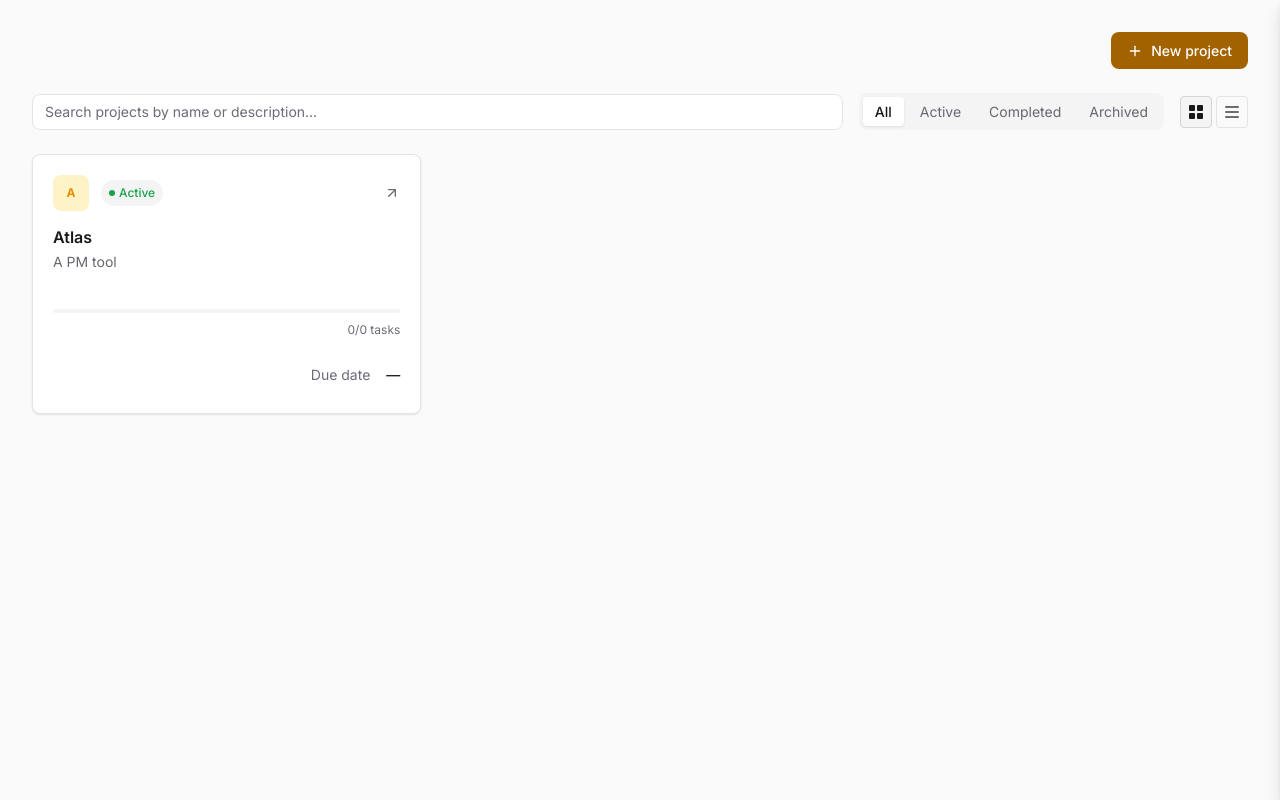
Test: ProjectList search, filter, and view toggle › should switch to the table view on the list-view toggle
This screenshot has width=1280, height=800.
Step 1. Click the button named "List view" → coordinates (1232, 112), box left=1216, top=96, right=1248, bottom=128
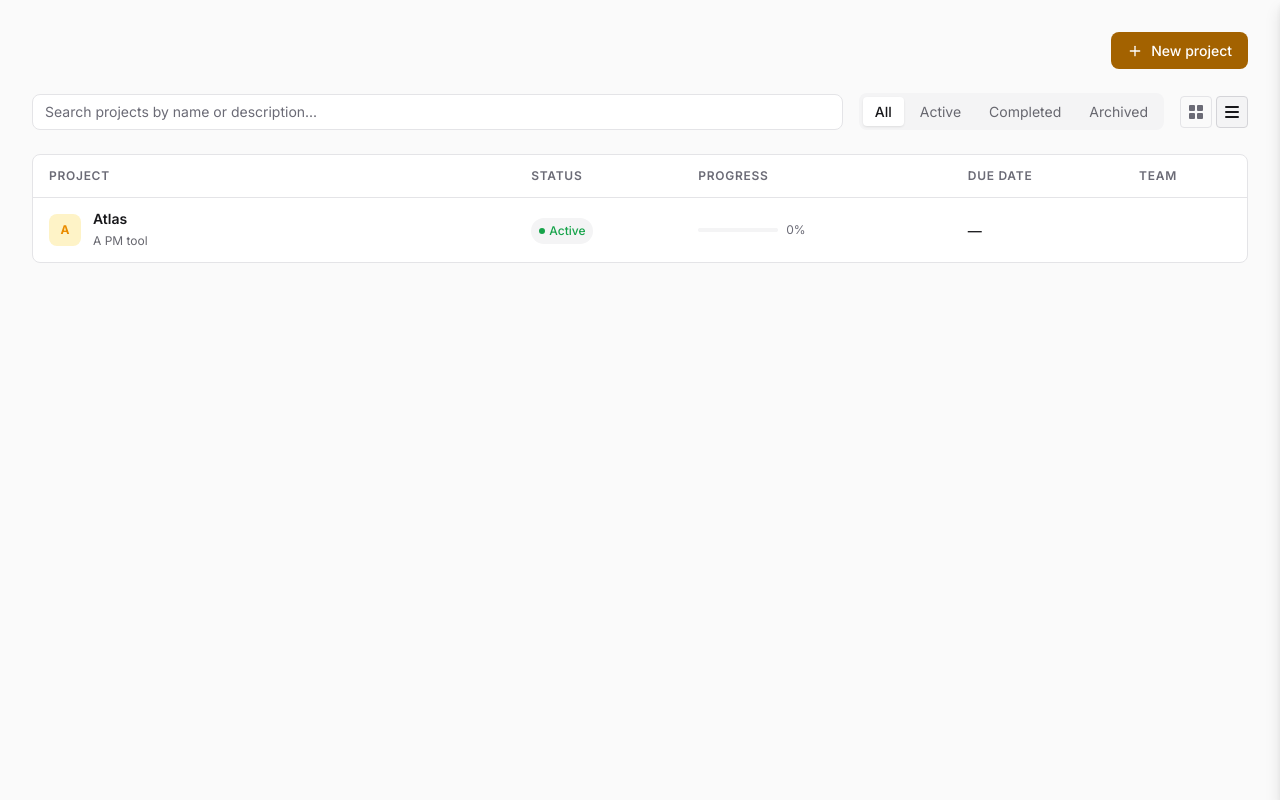
Check: the column heading "PROJECT" is shown, box left=33, top=155, right=515, bottom=198
